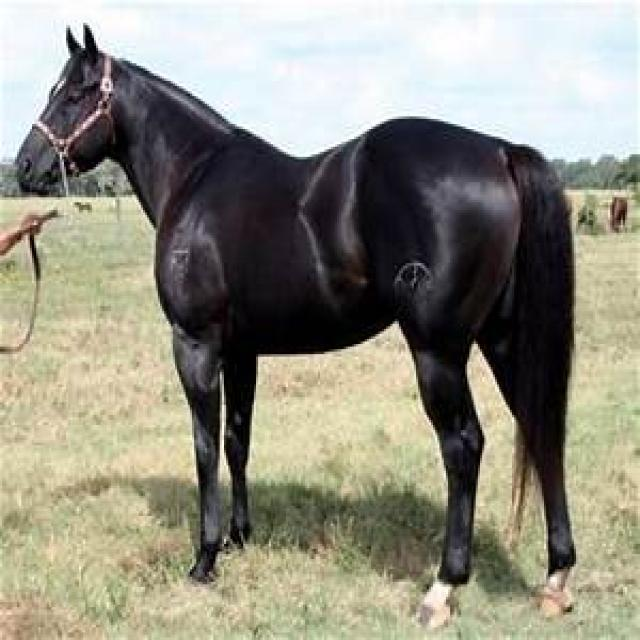horse: (16, 27, 575, 623)
